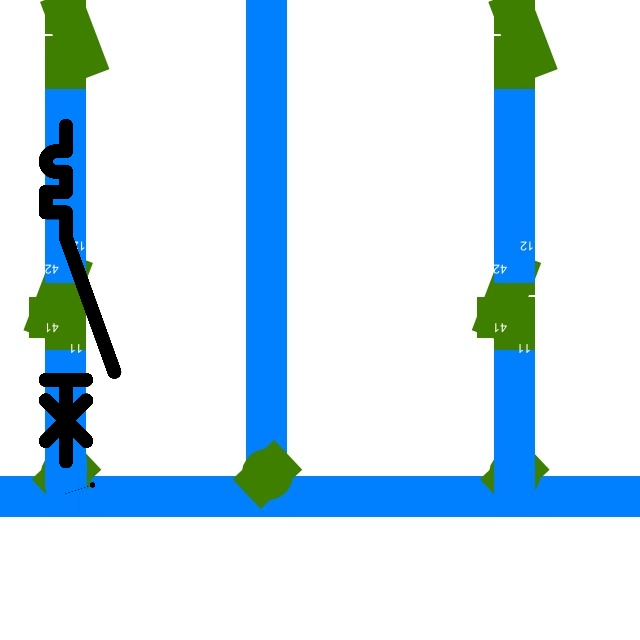interruptor_termomagnetico: (37, 117, 123, 470)
